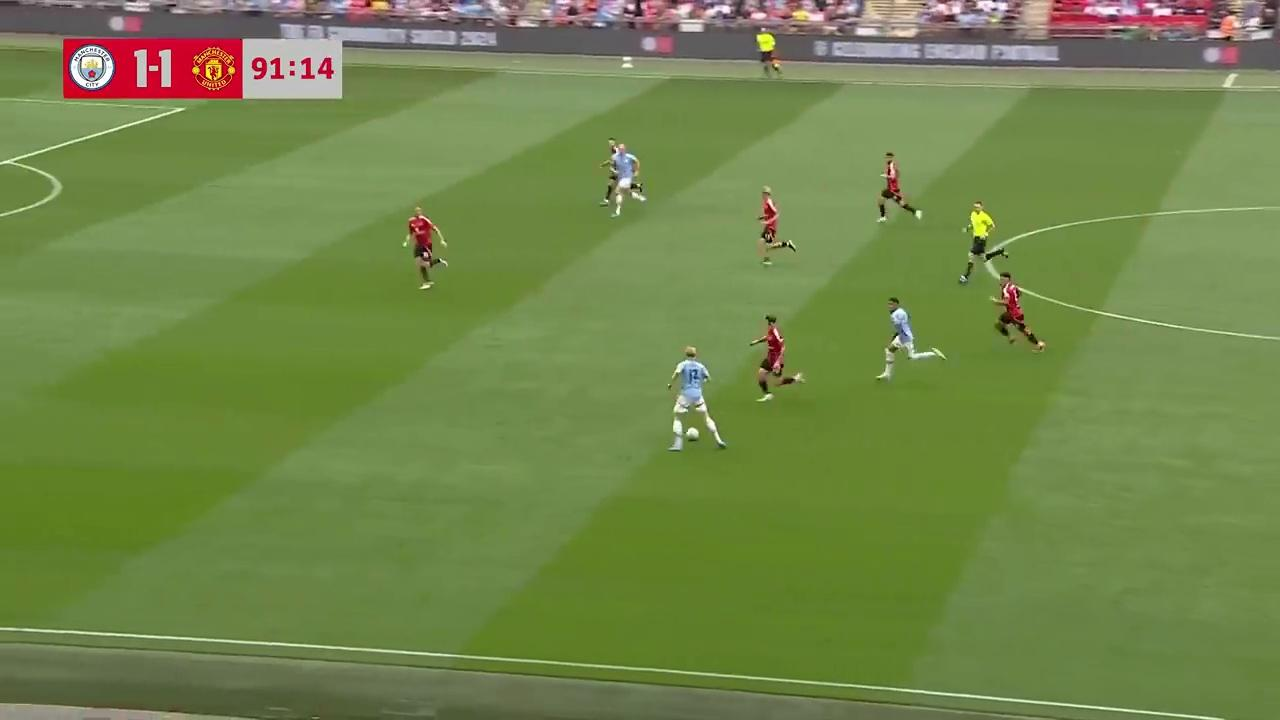ball: (686, 425, 700, 440)
player: (665, 345, 728, 452), (748, 315, 804, 400), (991, 272, 1045, 350), (875, 295, 919, 382), (403, 204, 448, 289), (755, 186, 797, 266), (876, 152, 921, 222), (607, 144, 646, 212), (597, 134, 622, 217)
referee: (958, 199, 1000, 285), (756, 28, 782, 80)
